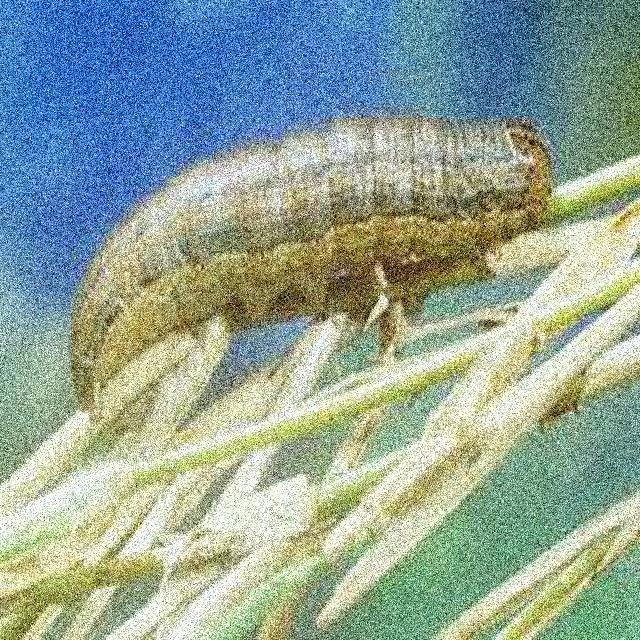gusano_cogollero: (67, 110, 554, 424)
